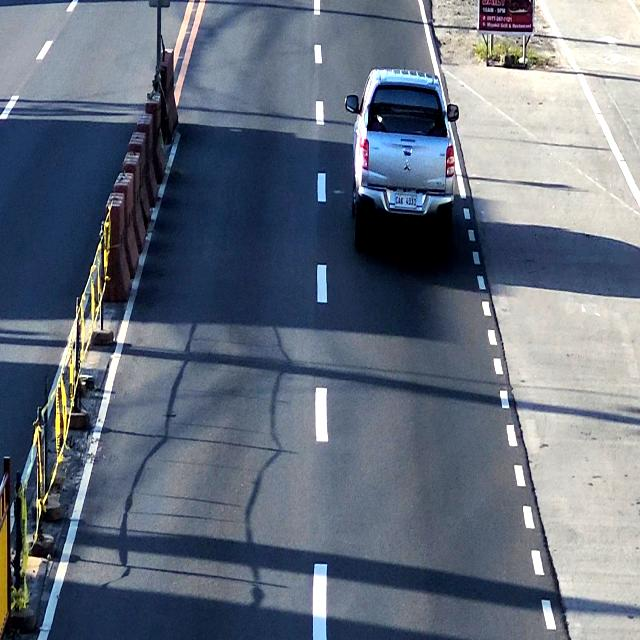Car: (356, 71, 451, 248)
License-Plate: (393, 192, 418, 211)
